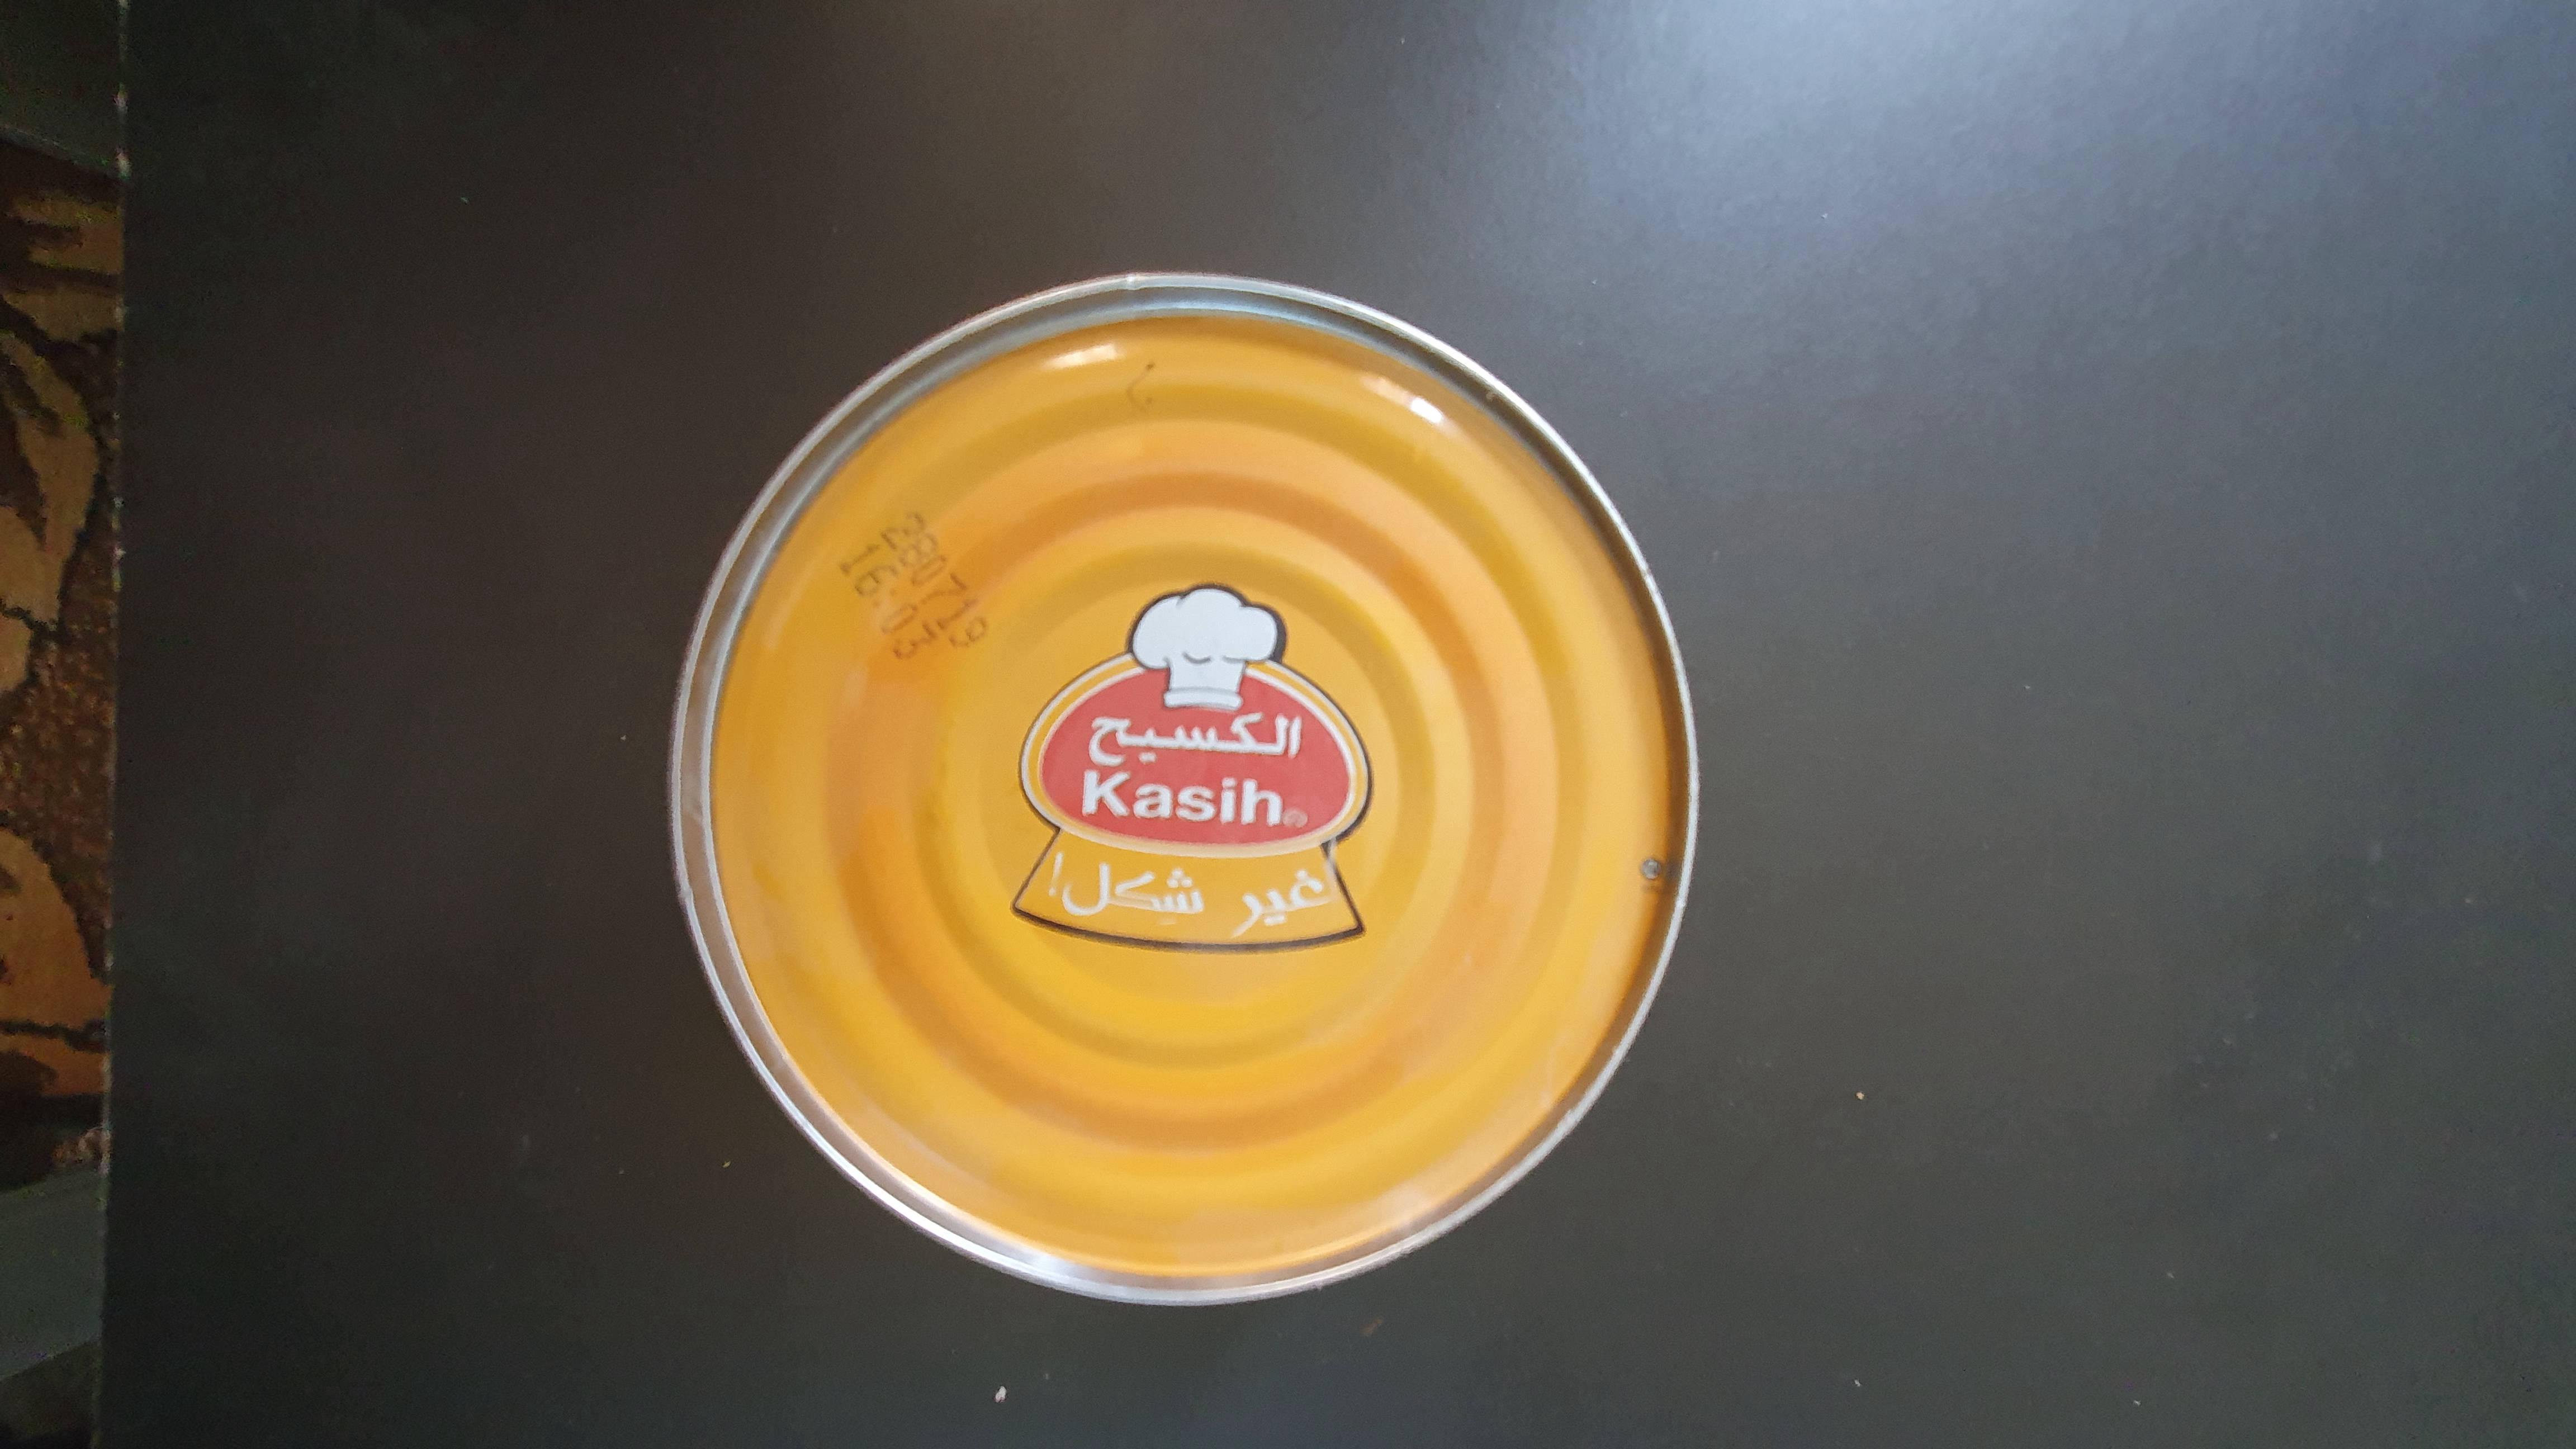metal: (646, 237, 1737, 1325)
